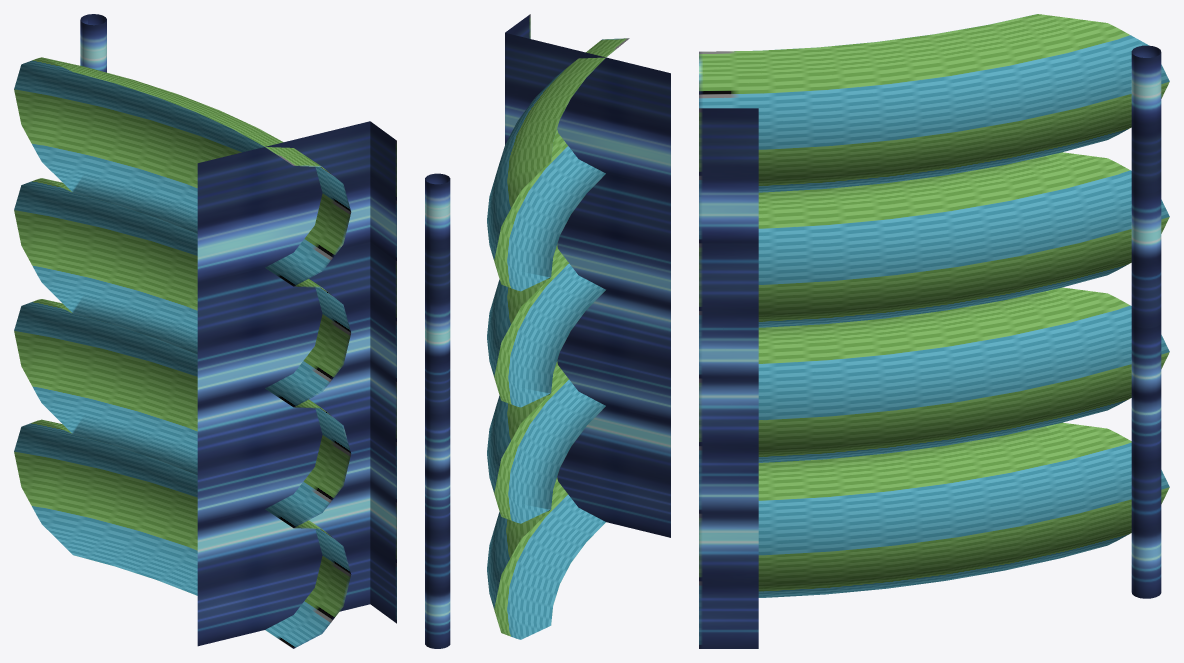
File: tng_core_a.obj
3 renders of one model, left to right at view 1: azimuth 30°, elevation 25°; view 2: azimuth 150°, elevation 25°; view 3: azimuth 270°, elevation 25°, orthographic. The views are drawn at different scales.
Visible parts, largest first — view 1: WarpGroupA_meshA; view 2: WarpGroupA_meshA; view 3: WarpGroupA_meshA.
Part boxes in pixels (left/top/right/bottom): WarpGroupA_meshA: left=14, top=14, right=396, bottom=648; WarpGroupA_meshA: left=425, top=14, right=670, bottom=648; WarpGroupA_meshA: left=699, top=14, right=1169, bottom=648.
Size of the model in its own units: 0.374 by 1 by 0.7892.
